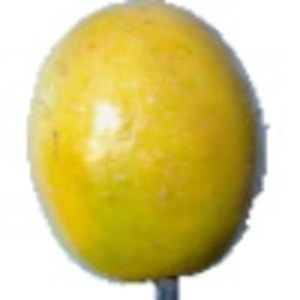maracujá: (26, 1, 271, 300)
